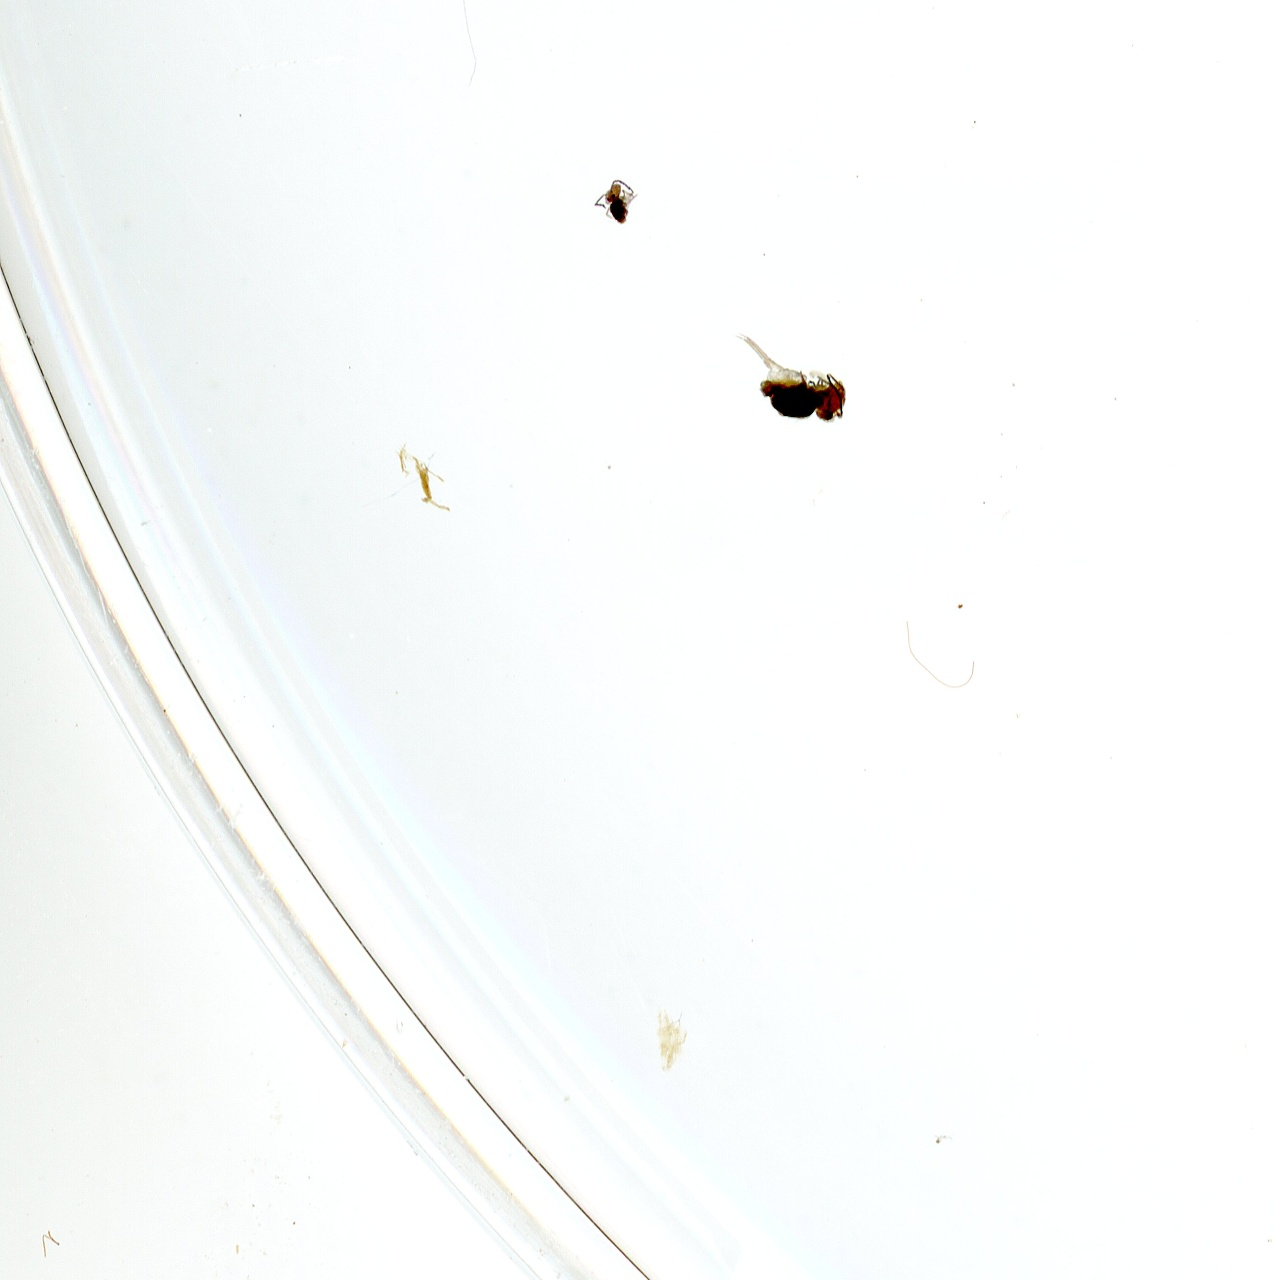arthropod: (730, 327, 850, 424), (591, 176, 641, 226)
